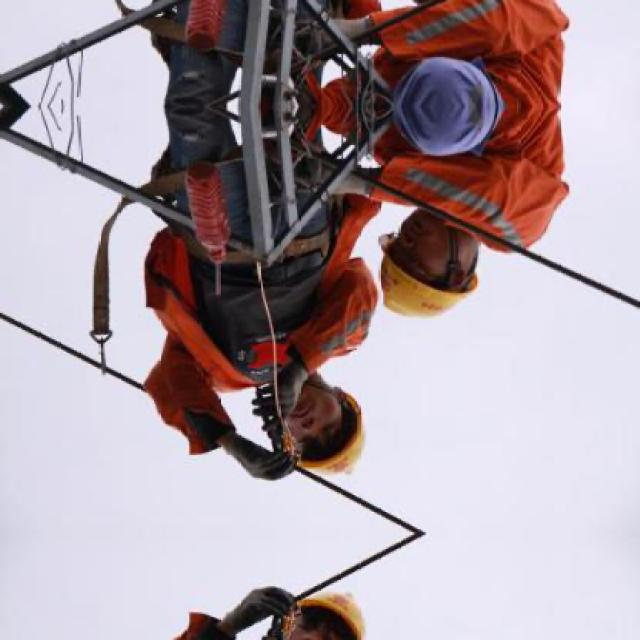con casco: (330, 207, 490, 329), (228, 371, 348, 499)
